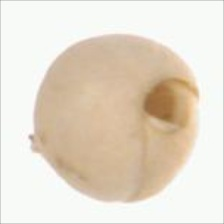L3: (141, 76, 200, 134)
L4: (28, 33, 200, 204)
